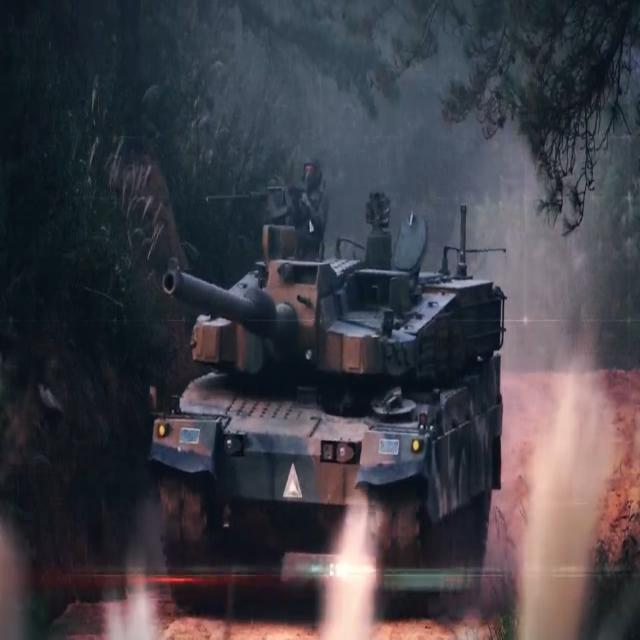korea tank: (148, 153, 511, 626)
